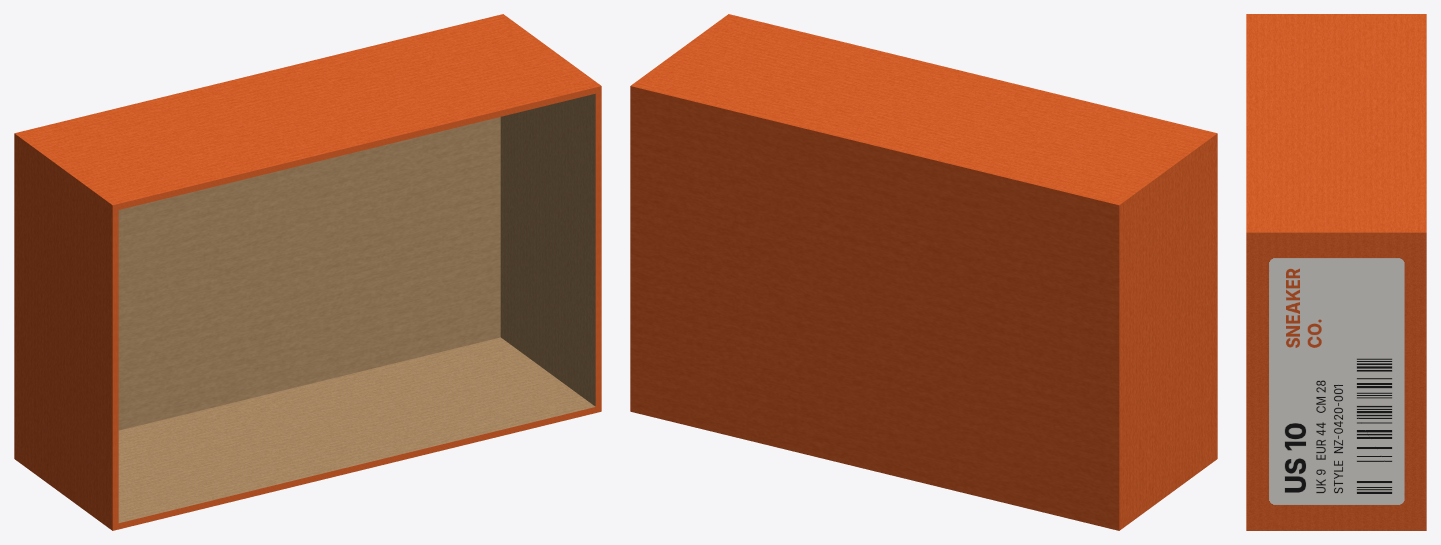
The model's file is nz_shoebox.obj.
3 views of the same model, side by side, from view 1: azimuth 30°, elevation 25°; view 2: azimuth 150°, elevation 25°; view 3: azimuth 270°, elevation 25° (orthographic). The views are drawn at different scales.
Parts seen in each view (by area): view 1: nz_shoebox; view 2: nz_shoebox; view 3: nz_shoebox.
Boxes of the visible parts, <box> form: nz_shoebox: <box>14,14,601,530</box>; nz_shoebox: <box>630,14,1217,530</box>; nz_shoebox: <box>1246,14,1426,530</box>.
Bounding box in the file's own units: 0.33 × 0.21 × 0.115.
Materials: 1 (1 with a texture image).
